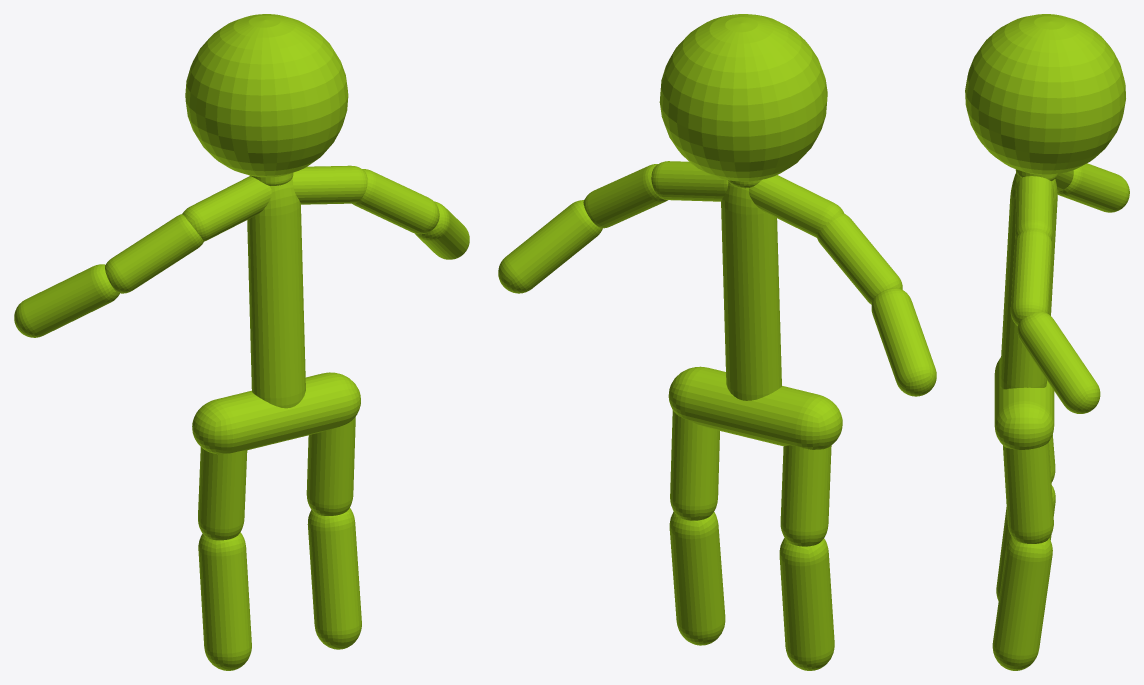
The model's file is Stickman_000006.obj.
3 renders of one model, left to right at view 1: azimuth 30°, elevation 25°; view 2: azimuth 150°, elevation 25°; view 3: azimuth 270°, elevation 25°, orthographic. The views are drawn at different scales.
Visible parts, largest first — view 1: Head_Sphere.001, Body_Roundcube.002, Hip_Roundcube.005, LowerLegLeft_Roundcube.013, LowerLegRight_Roundcube.011, LowerArmRight_Roundcube.016, UpperLegRight_Roundcube.010, UpperLegLeft_Roundcube.012, UpperArmRight_Roundcube.015, ShoulderRight_Roundcube.014, UpperArmLeft_Roundcube.018, ShoulderLeft_Roundcube.017 (+1 smaller); view 2: Head_Sphere.001, Body_Roundcube.002, Hip_Roundcube.005, LowerLegRight_Roundcube.011, LowerLegLeft_Roundcube.013, UpperLegRight_Roundcube.010, UpperLegLeft_Roundcube.012, LowerArmLeft_Roundcube.019, LowerArmRight_Roundcube.016, UpperArmRight_Roundcube.015, ShoulderRight_Roundcube.014, UpperArmLeft_Roundcube.018 (+1 smaller); view 3: Head_Sphere.001, LowerLegLeft_Roundcube.013, UpperLegLeft_Roundcube.012, LowerArmLeft_Roundcube.019, Hip_Roundcube.005, Body_Roundcube.002, UpperArmLeft_Roundcube.018, LowerArmRight_Roundcube.016, ShoulderLeft_Roundcube.017, LowerLegRight_Roundcube.011, UpperArmRight_Roundcube.015.
Part boxes in pixels (<box>): Head_Sphere.001: <box>185,14,348,177</box>; Body_Roundcube.002: <box>247,179,305,408</box>; Hip_Roundcube.005: <box>192,372,360,454</box>; LowerLegLeft_Roundcube.013: <box>307,508,361,649</box>; LowerLegRight_Roundcube.011: <box>198,532,251,670</box>; LowerArmRight_Roundcube.016: <box>14,264,119,337</box>; UpperLegRight_Roundcube.010: <box>198,447,247,540</box>; UpperLegLeft_Roundcube.012: <box>306,416,355,515</box>; UpperArmRight_Roundcube.015: <box>105,214,203,293</box>; ShoulderRight_Roundcube.014: <box>182,176,271,241</box>; UpperArmLeft_Roundcube.018: <box>352,169,439,234</box>; ShoulderLeft_Roundcube.017: <box>292,165,367,204</box>; Head_Sphere.001: <box>659,14,827,181</box>; Body_Roundcube.002: <box>721,182,781,400</box>; Hip_Roundcube.005: <box>668,366,842,449</box>; LowerLegRight_Roundcube.011: <box>779,538,834,670</box>; LowerLegLeft_Roundcube.013: <box>669,511,725,645</box>; UpperLegRight_Roundcube.010: <box>780,445,831,546</box>; UpperLegLeft_Roundcube.012: <box>670,410,719,520</box>; LowerArmLeft_Roundcube.019: <box>498,200,602,293</box>; LowerArmRight_Roundcube.016: <box>871,287,936,396</box>; UpperArmRight_Roundcube.015: <box>816,213,902,304</box>; ShoulderRight_Roundcube.014: <box>749,175,844,237</box>; UpperArmLeft_Roundcube.018: <box>583,164,667,228</box>; Head_Sphere.001: <box>965,14,1125,174</box>; LowerLegLeft_Roundcube.013: <box>992,536,1052,670</box>; UpperLegLeft_Roundcube.012: <box>1003,442,1053,543</box>; LowerArmLeft_Roundcube.019: <box>1017,312,1100,413</box>; Hip_Roundcube.005: <box>994,357,1054,449</box>; Body_Roundcube.002: <box>1000,172,1057,389</box>; UpperArmLeft_Roundcube.018: <box>1010,229,1052,325</box>; LowerArmRight_Roundcube.016: <box>1057,163,1129,212</box>; ShoulderLeft_Roundcube.017: <box>1015,176,1053,240</box>; LowerLegRight_Roundcube.011: <box>996,485,1055,600</box>; UpperArmRight_Roundcube.015: <box>1055,170,1073,191</box>.
Bounding box in the file's own units: 7.5 × 10.35 × 2.49.
